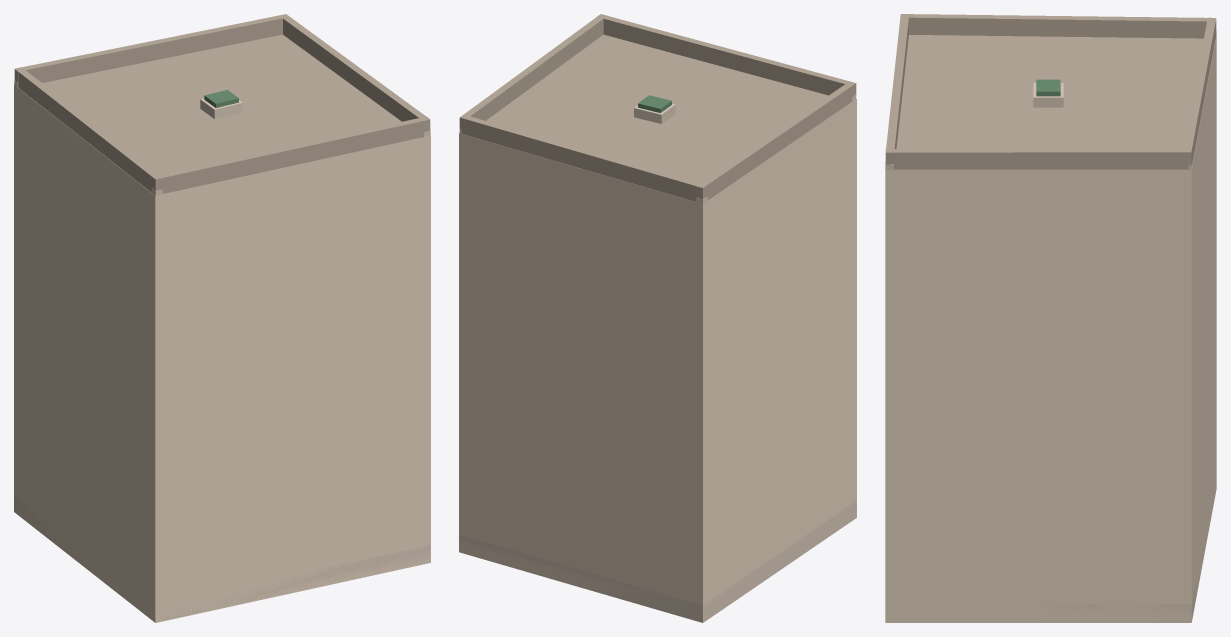
File: cop_predio_historico_03__way_588693296.fbx
3 views of the same model, side by side, from view 1: azimuth 30°, elevation 25°; view 2: azimuth 150°, elevation 25°; view 3: azimuth 270°, elevation 25° (orthographic). The views are drawn at different scales.
Parts seen in each view (by area): view 1: cop_predio_historico_03__way_588693296_wall, cop_predio_historico_03__way_588693296_roof, cop_predio_historico_03__way_588693296_stone; view 2: cop_predio_historico_03__way_588693296_wall, cop_predio_historico_03__way_588693296_roof, cop_predio_historico_03__way_588693296_stone; view 3: cop_predio_historico_03__way_588693296_wall, cop_predio_historico_03__way_588693296_roof, cop_predio_historico_03__way_588693296_stone.
Boxes of the visible parts, left/top/right/bottom form: cop_predio_historico_03__way_588693296_wall: left=14, top=85, right=430, bottom=622; cop_predio_historico_03__way_588693296_roof: left=14, top=14, right=430, bottom=195; cop_predio_historico_03__way_588693296_stone: left=14, top=80, right=430, bottom=622; cop_predio_historico_03__way_588693296_wall: left=459, top=99, right=856, bottom=622; cop_predio_historico_03__way_588693296_roof: left=459, top=14, right=856, bottom=203; cop_predio_historico_03__way_588693296_stone: left=459, top=94, right=856, bottom=622; cop_predio_historico_03__way_588693296_wall: left=885, top=37, right=1216, bottom=622; cop_predio_historico_03__way_588693296_roof: left=885, top=14, right=1216, bottom=169; cop_predio_historico_03__way_588693296_stone: left=885, top=30, right=1216, bottom=622.
Bounding box in the file's own units: 1184 × 1869 × 1194.
